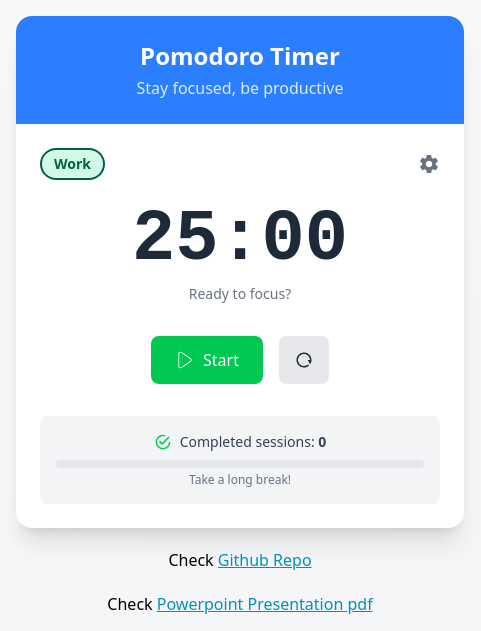
Timer Component › transitions to break after work session
Start timer
Step 1. Click the button "Start" → (207,360), box top-left (151, 336), bottom-right (263, 384)
Wait 1500100 ms
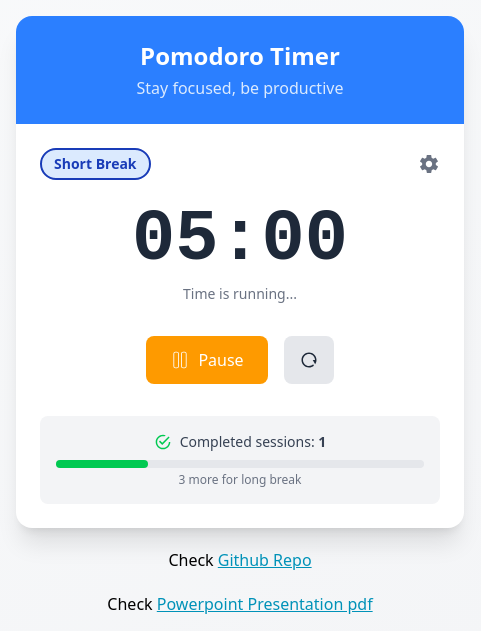
Expected: the text "05:00" is shown, top-left (132, 199), bottom-right (348, 281)
